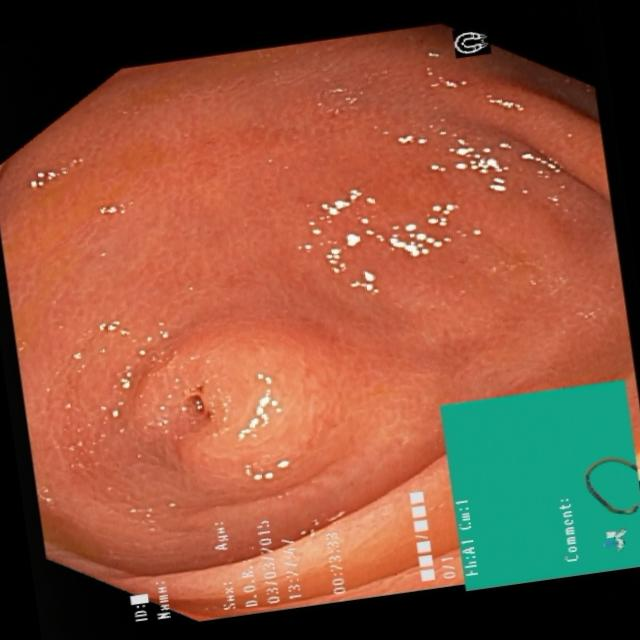normal-cecum: (107, 294, 372, 499), (0, 122, 176, 281)
